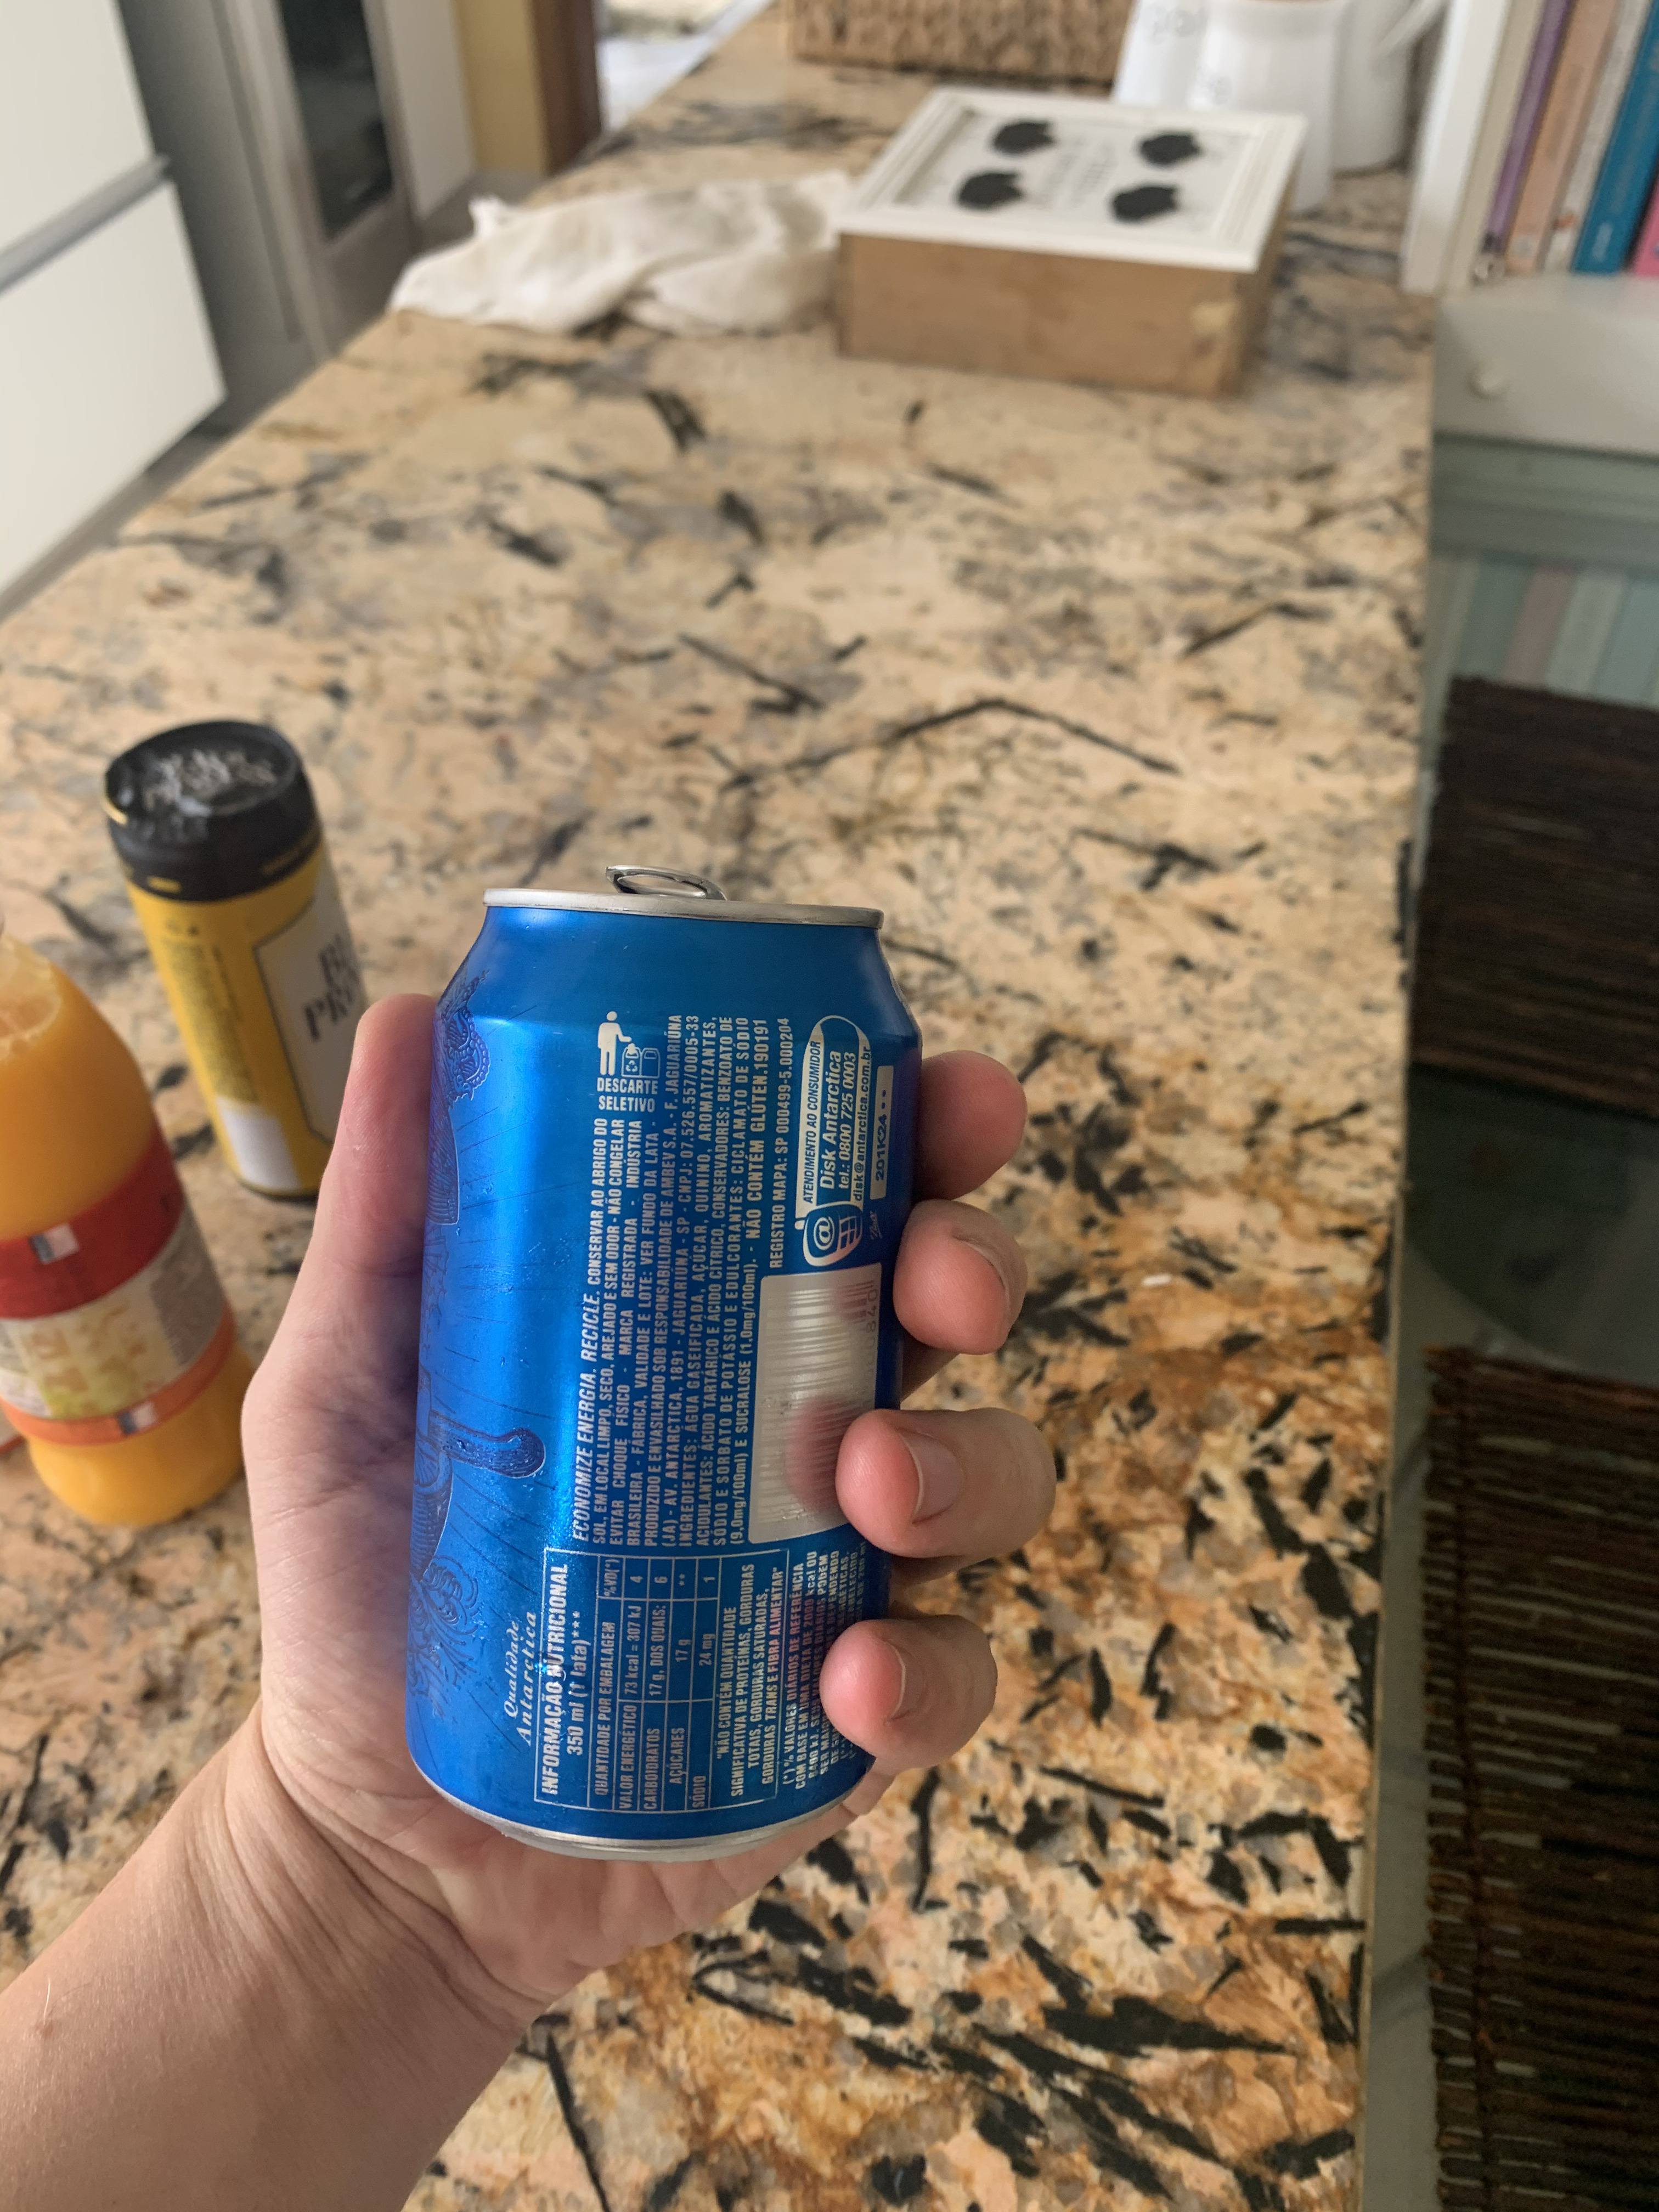tonica: (380, 848, 946, 1905)
